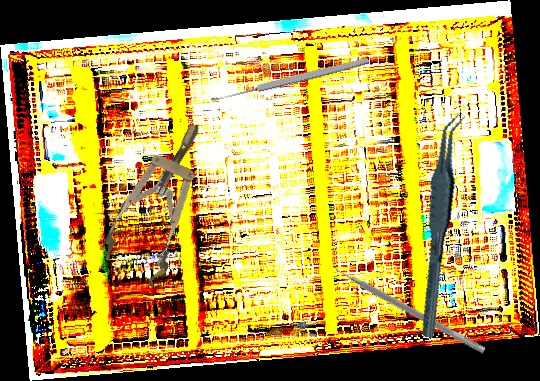Spatula Surgical: (328, 259, 490, 354)
Speculum: (95, 111, 228, 290)
Surgical Spoon: (210, 55, 370, 105)
Tissue Forceps: (395, 111, 485, 339)
